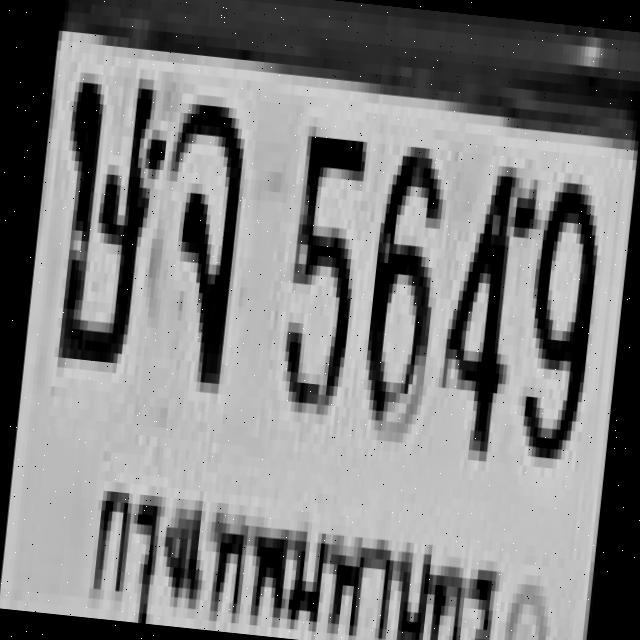17ChorChan: (146, 92, 246, 383)
4: (430, 146, 534, 448)
48SorRueSi: (43, 62, 166, 366)
5: (276, 116, 365, 406)
6: (356, 129, 446, 419)
9: (512, 170, 602, 460)
Bangkok: (68, 450, 522, 640)
